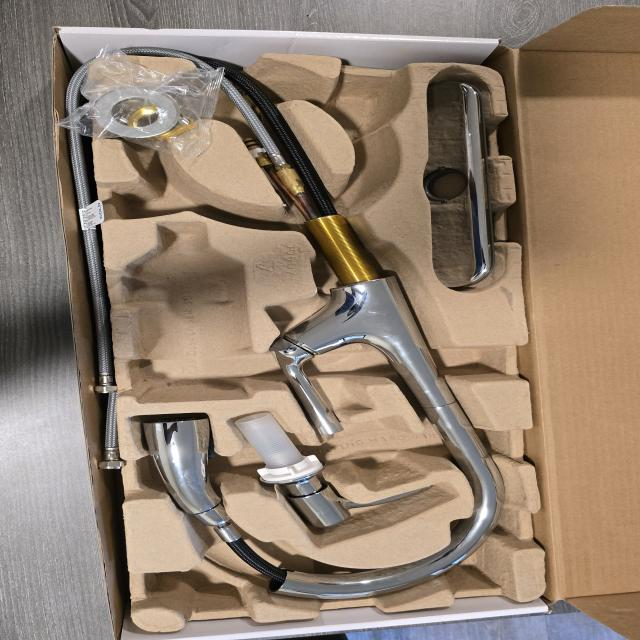1: (140, 53, 507, 601)
2: (230, 412, 431, 530)
3m: (124, 220, 250, 403)
4: (421, 81, 496, 289)
5m: (327, 78, 405, 137)
6: (57, 40, 228, 159)
7m: (111, 159, 259, 227)
